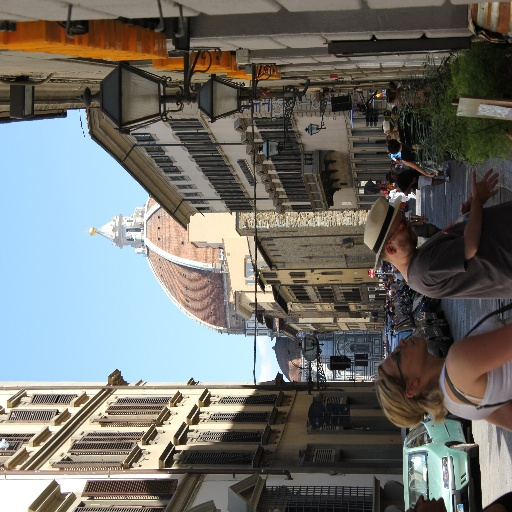hand: (461, 161, 499, 244), (462, 191, 472, 215), (421, 216, 429, 224), (427, 172, 436, 179), (412, 177, 416, 183), (396, 185, 400, 190)
